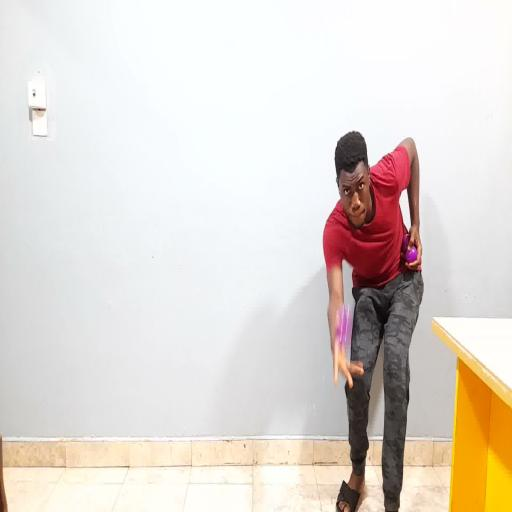plastic-ball: (332, 302, 355, 348)
